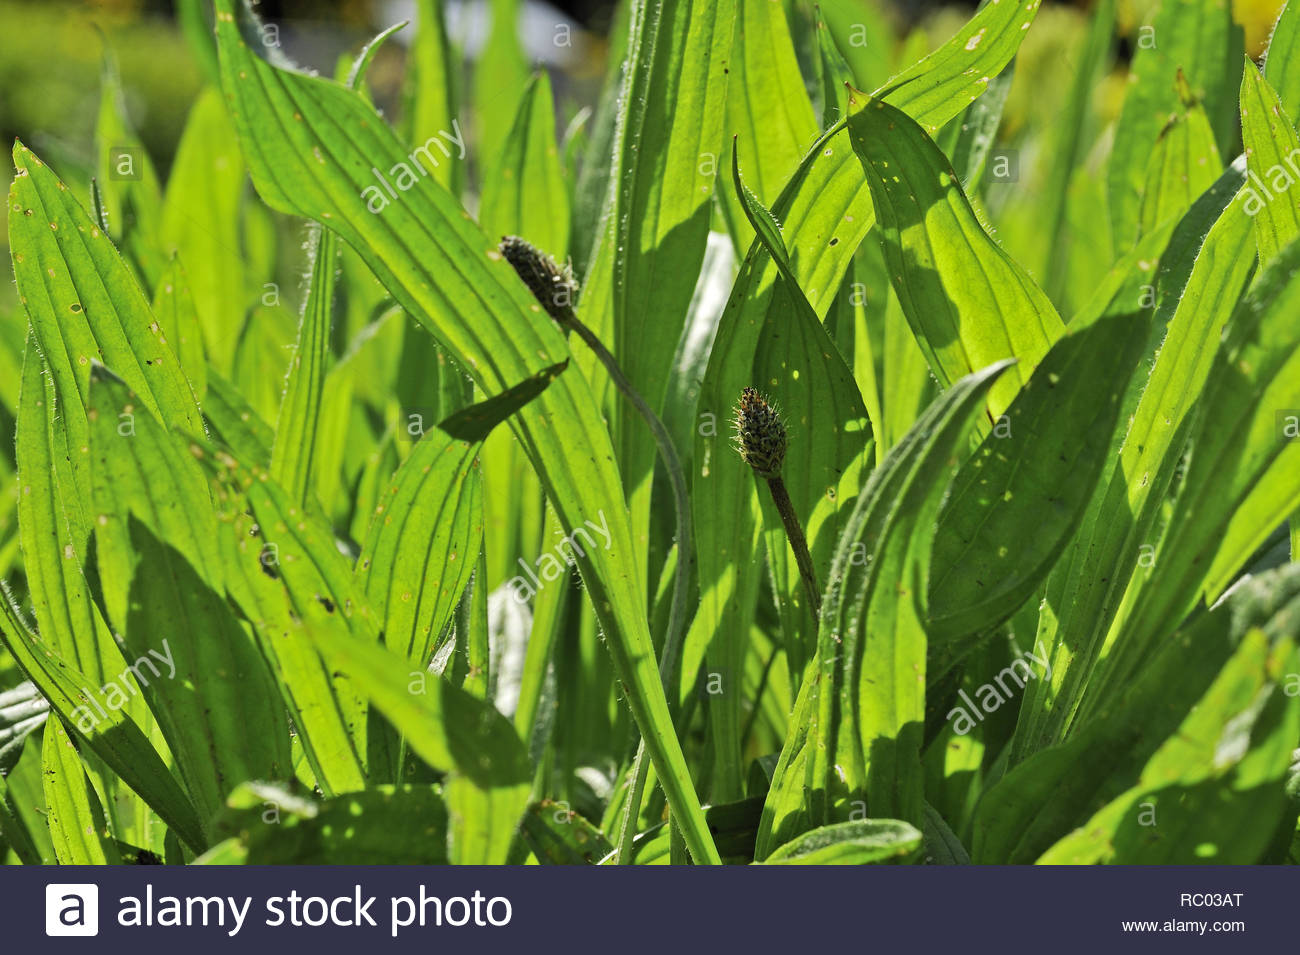buckhorn plantain: (143, 15, 1094, 851)
